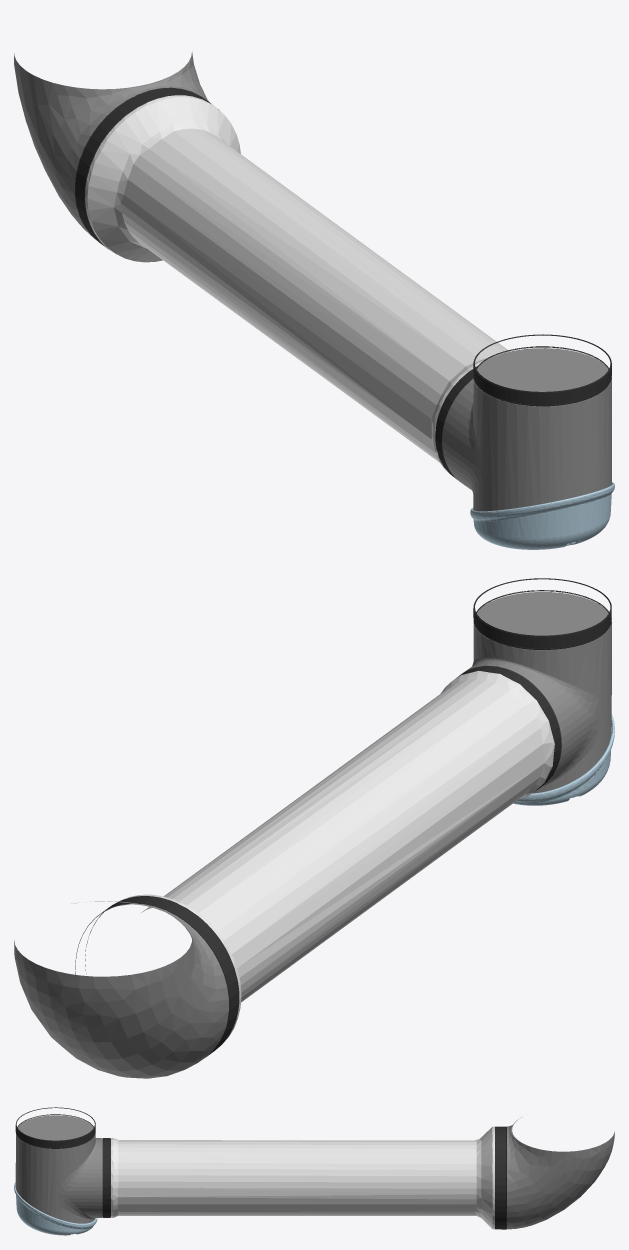
The model's file is forearm.glb.
3 renders of one model, top to bottom at view 1: azimuth 30°, elevation 25°; view 2: azimuth 150°, elevation 25°; view 3: azimuth 270°, elevation 25°, orthographic. The views are drawn at different scales.
Visible parts, largest first — view 1: geometry_0; view 2: geometry_0; view 3: geometry_0.
Part boxes in pixels (<box>): geometry_0: <box>14,52,614,549</box>; geometry_0: <box>14,578,614,1078</box>; geometry_0: <box>14,1107,614,1235</box>.
Size of the model in its own units: 0.116 by 0.1249 by 0.6764.
1 material, 1 textured.
